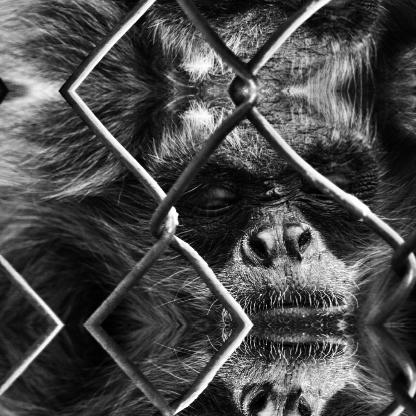Monkey: (21, 94, 391, 324), (21, 326, 392, 415), (21, 0, 392, 88)
